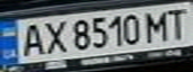0: (121, 11, 145, 46)
1: (106, 12, 127, 47)
5: (90, 14, 112, 50)
8: (69, 16, 93, 52)
A: (15, 20, 48, 57)
M: (142, 7, 175, 43)
T: (160, 4, 193, 40)
X: (39, 18, 69, 55)
